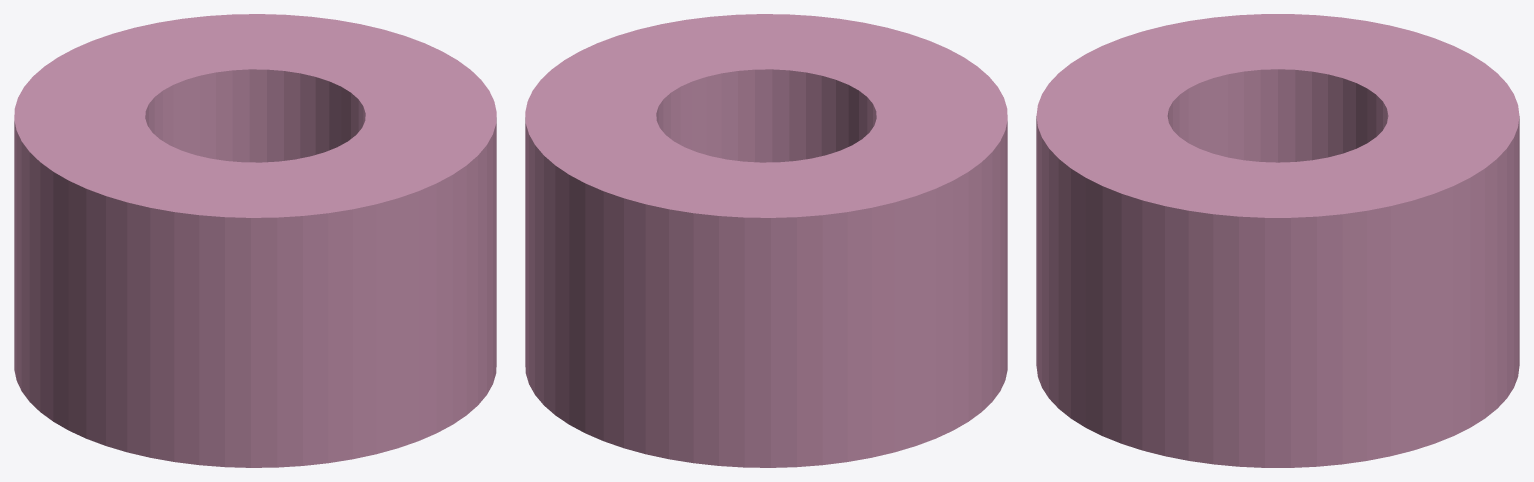
File: case-04_lib00007.glb
3 renders of one model, left to right at view 1: azimuth 30°, elevation 25°; view 2: azimuth 150°, elevation 25°; view 3: azimuth 270°, elevation 25°, orthographic.
Parts seen in each view (by area): view 1: lib00007; view 2: lib00007; view 3: lib00007.
Part boxes in pixels (x1,y1,x2,y2): lib00007: (14,14,496,467); lib00007: (525,14,1007,467); lib00007: (1036,14,1519,467).
Bounding box in the file's own units: 6.99 × 4 × 7.
